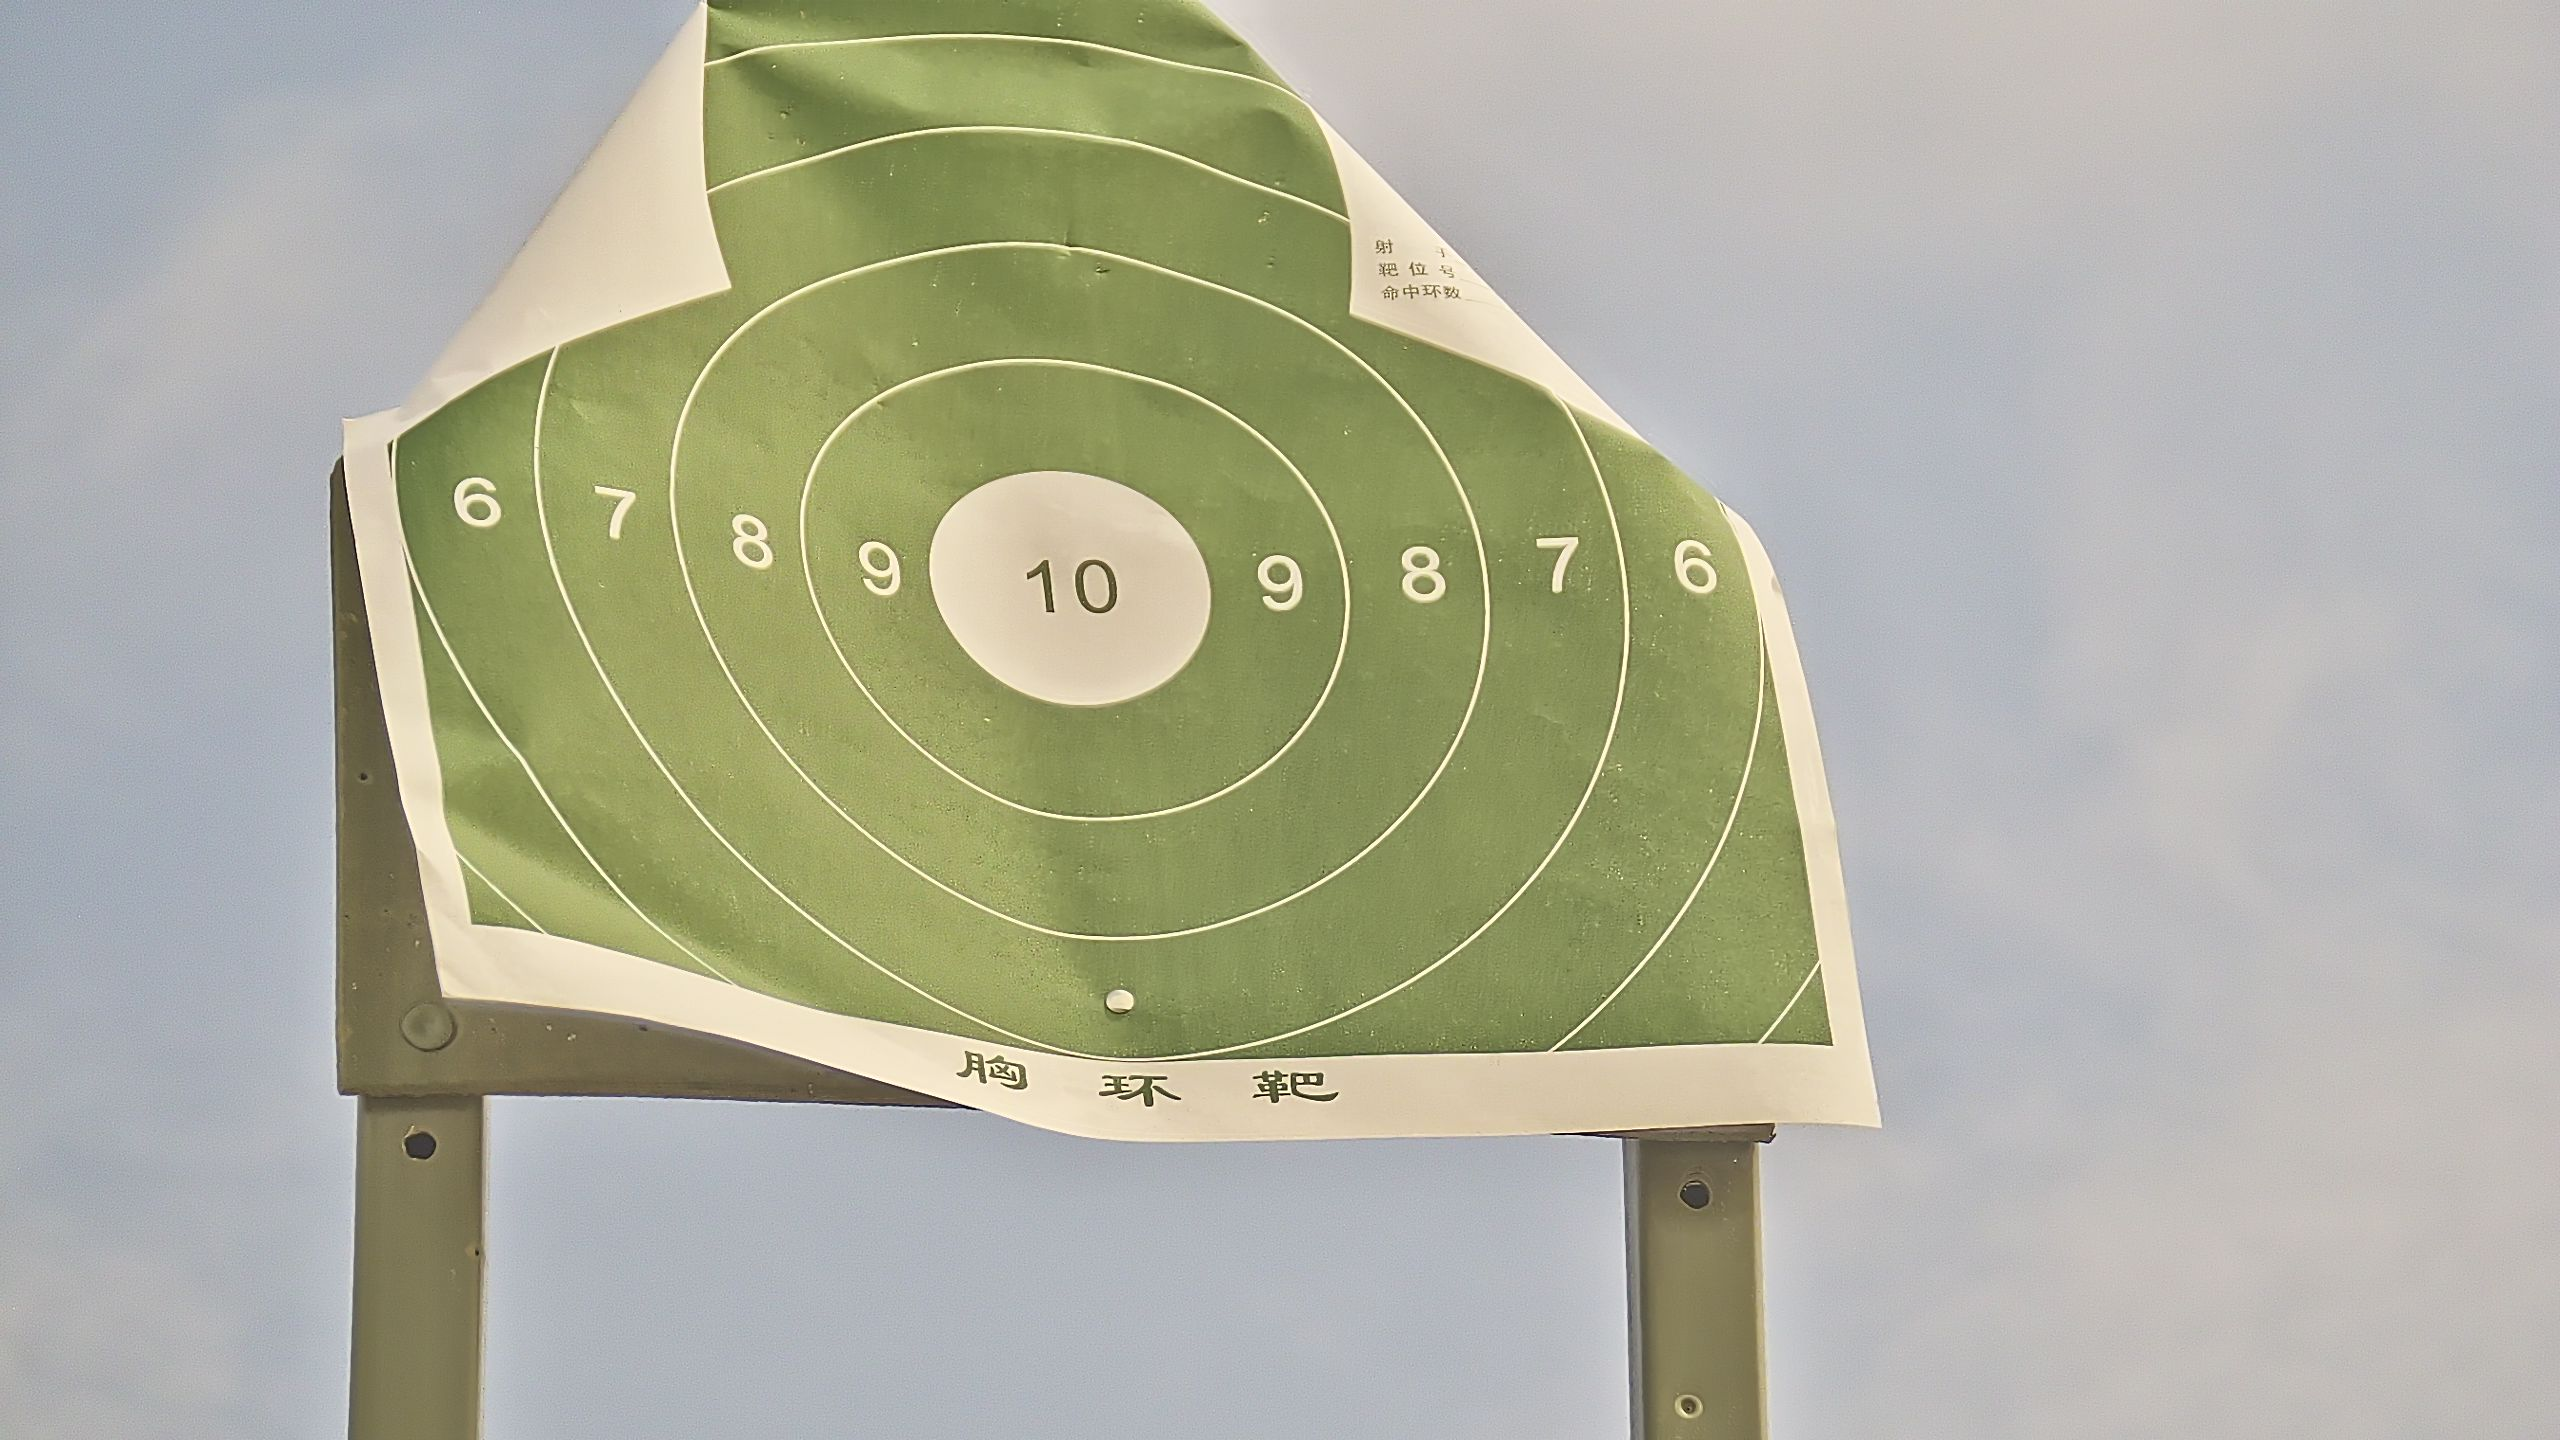kernel: (1064, 587, 1067, 594)
target: (383, 2, 1834, 1060)
ten: (927, 473, 1217, 705)
